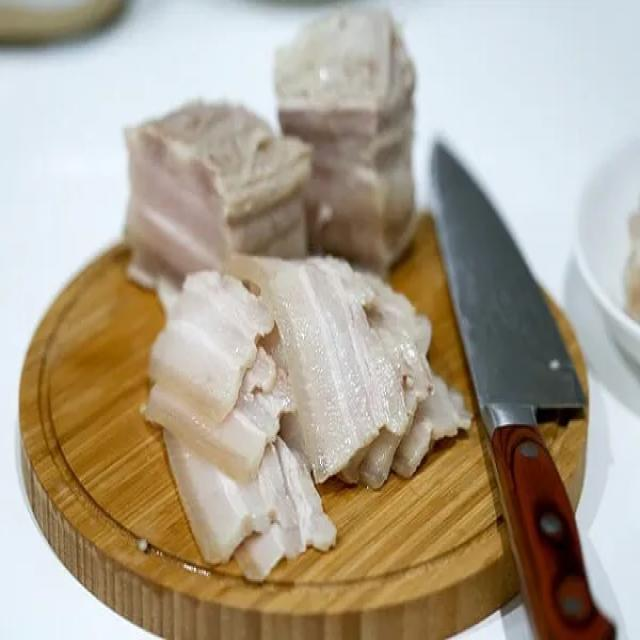thit luoc: (141, 256, 469, 579)
